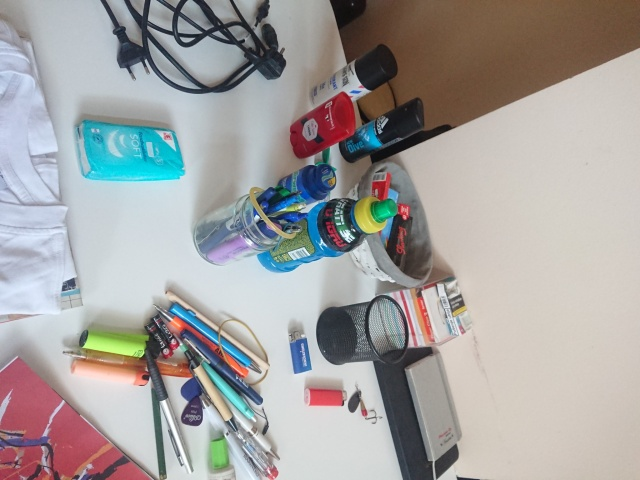Vindi Iso Sport Forest Strawberries 500mL: (254, 193, 399, 273)
